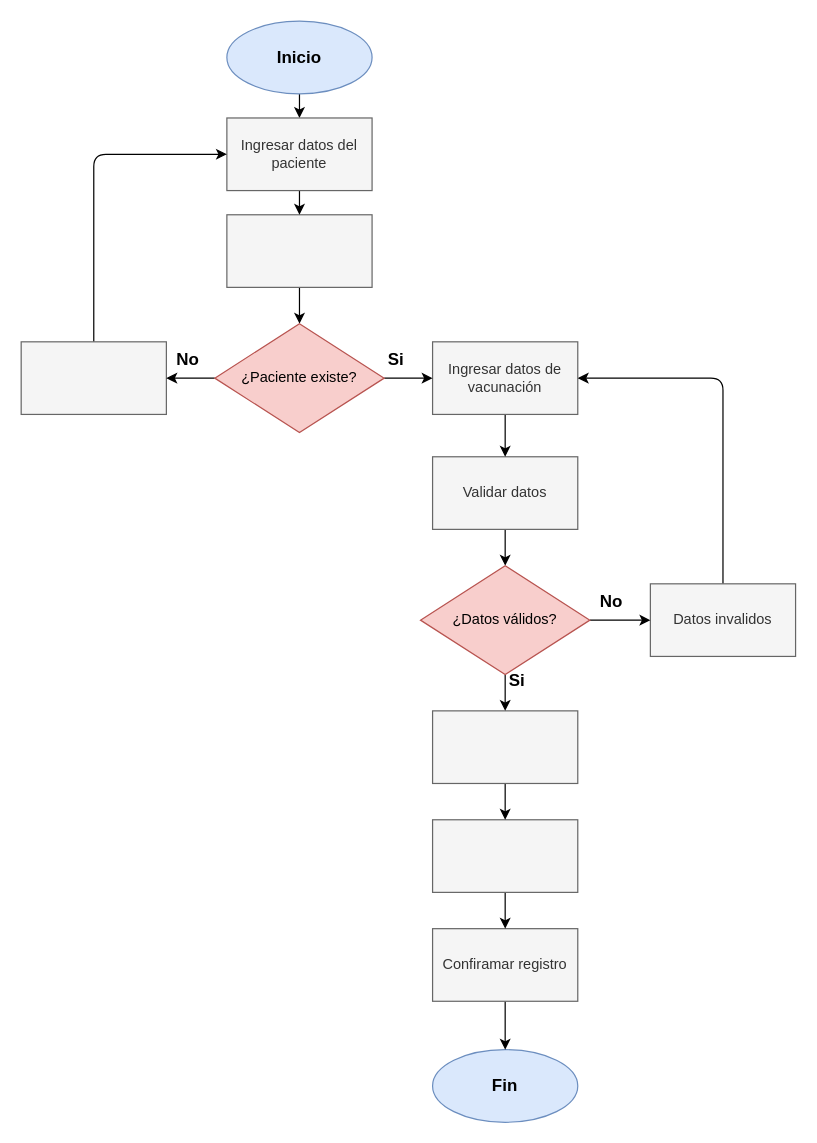
This 817x1143 diagram has some shape labels left out. The box of each missing label's shape, as (x1, y1, x2, y2) in pixels:
Acuatualizar historial clinico: (431, 819, 578, 892)
Buscar paciente: (226, 214, 372, 287)
Paciente no encontrado: (20, 341, 166, 414)
Registar vacuna aplicada: (431, 710, 578, 783)
